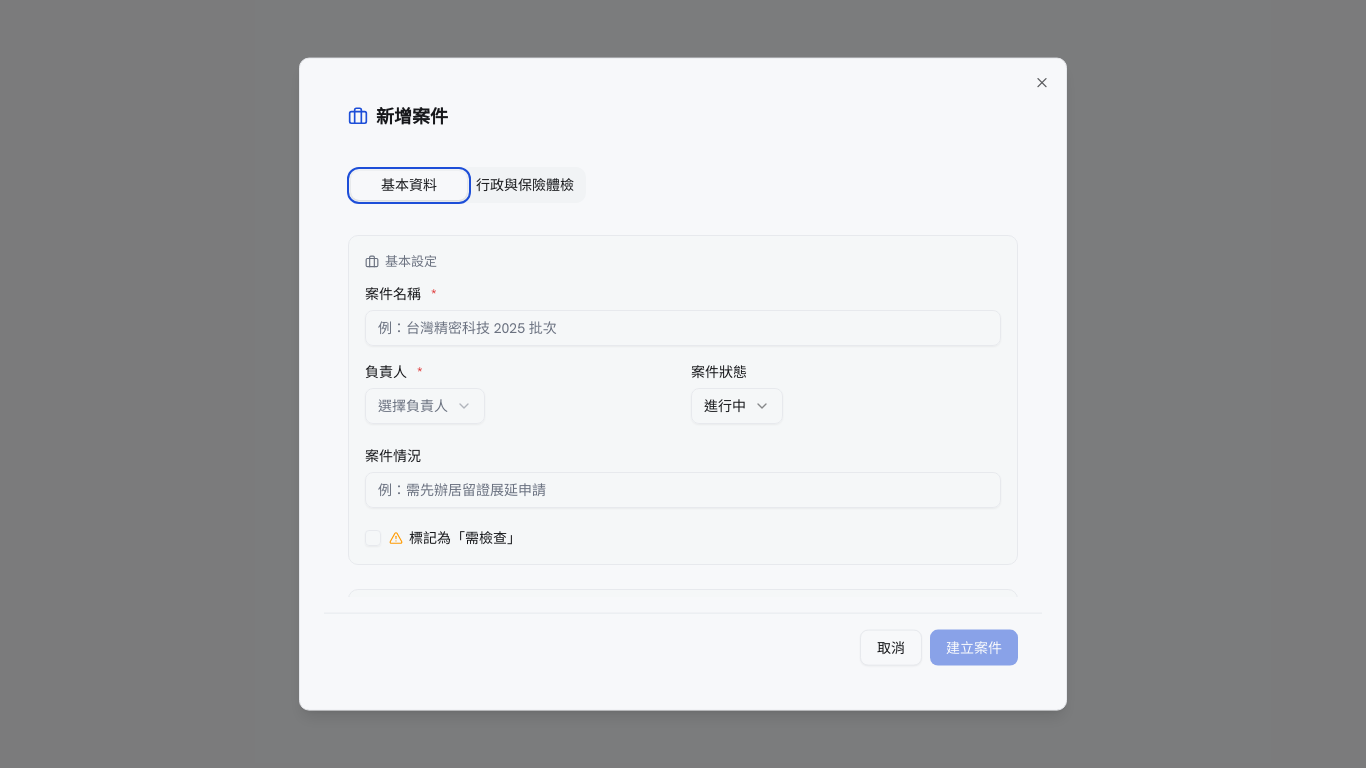
CaseModal 的必填判斷 › 剛開啟時三項必填全缺，tooltip 逐項列出
Hover over the element with test id "case-modal-submit-wrap" at {"x": 974, "y": 647}, box [930,629,1018,665]
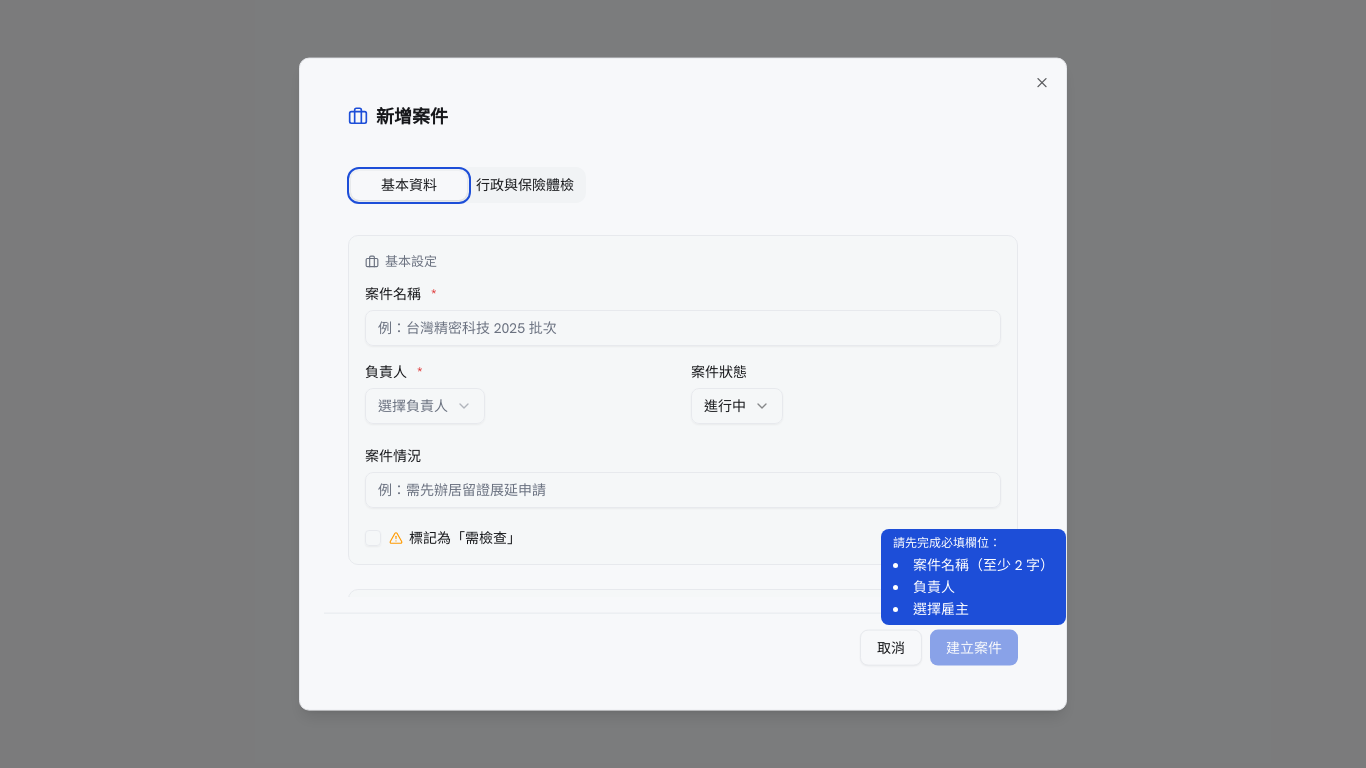
Now the tooltip shows "案件名稱", box [913,556,1054,574]
Now the tooltip shows "負責人", box [913,578,955,596]
Now the tooltip shows "選擇雇主", box [913,600,969,618]
